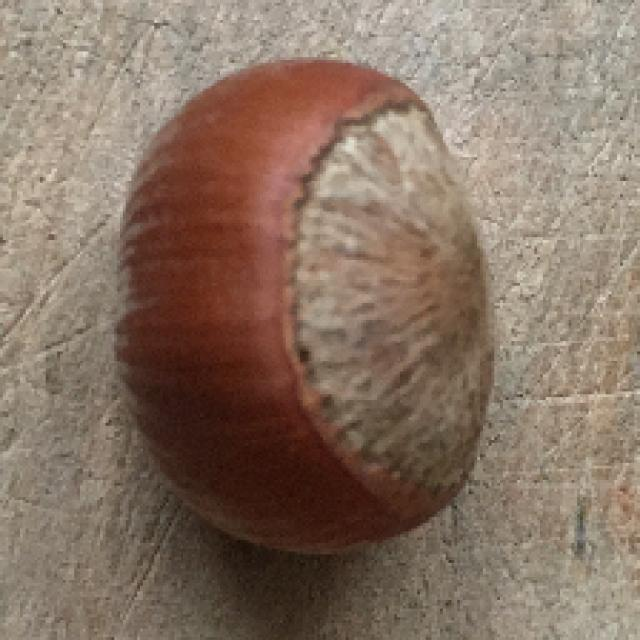qualityHazelnut: (112, 54, 497, 557)
